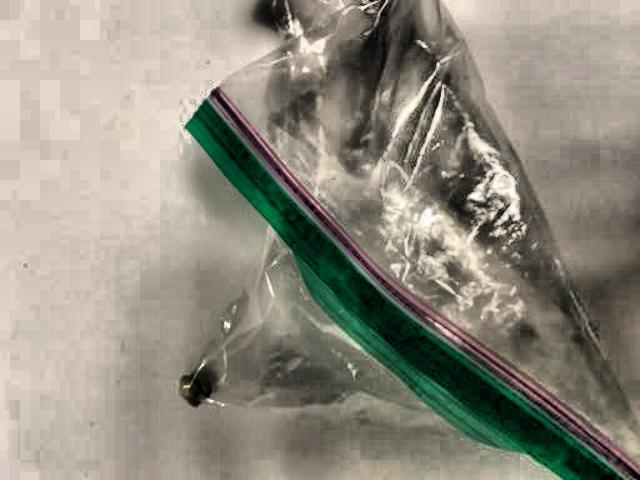Plastic: (156, 0, 640, 480)
